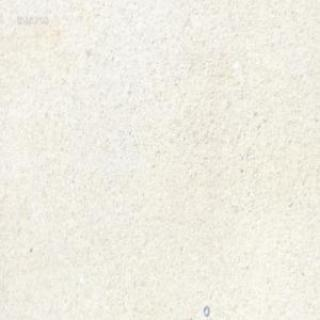Washertrack_idkeyframe: (203, 304, 209, 316)
